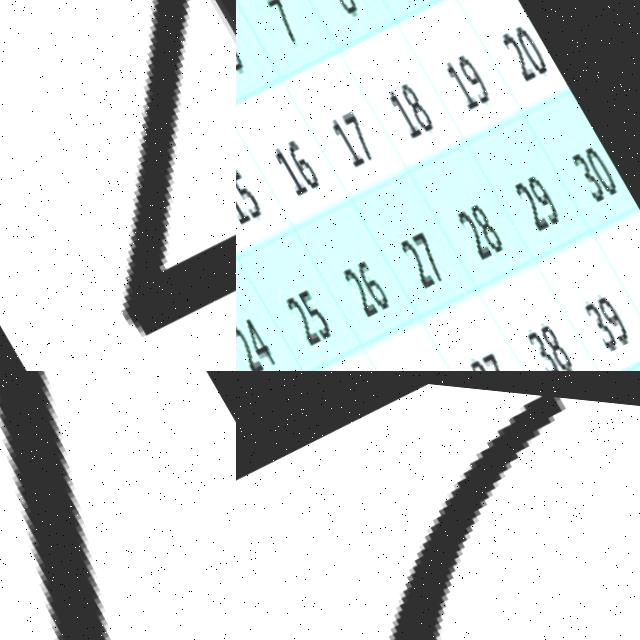0: (500, 0, 556, 73), (576, 122, 622, 187)
1: (378, 71, 425, 138), (436, 44, 482, 108), (264, 132, 308, 196), (322, 101, 367, 163), (236, 159, 253, 228)
2: (330, 247, 379, 315), (389, 220, 437, 286), (275, 279, 322, 344), (506, 161, 552, 226), (492, 10, 537, 73), (450, 194, 494, 256), (236, 311, 262, 371)
3: (575, 281, 623, 349), (564, 134, 607, 194), (520, 313, 564, 371), (461, 341, 504, 371)
4: (236, 305, 276, 365), (634, 254, 640, 312)
5: (292, 278, 335, 338), (236, 152, 269, 221)
6: (236, 371, 640, 640), (278, 126, 327, 194), (346, 242, 392, 307), (236, 9, 246, 71)
7: (333, 91, 382, 158), (407, 218, 448, 274), (260, 0, 300, 39), (475, 336, 516, 371)
8: (391, 63, 439, 131), (463, 188, 506, 248), (534, 308, 576, 367), (319, 0, 361, 13)
9: (450, 36, 496, 101), (589, 275, 635, 340), (520, 153, 564, 219)
V: (0, 371, 236, 640)
